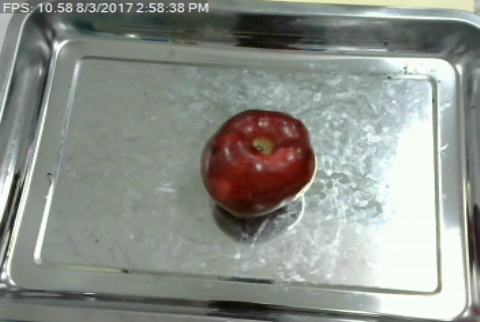Apple: (198, 105, 316, 225)
